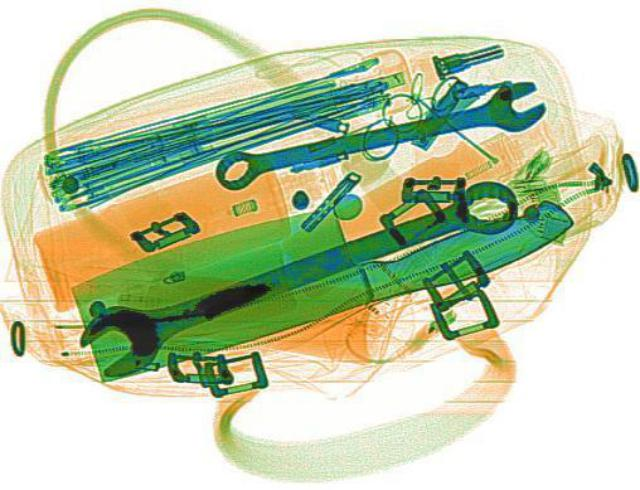Knife: (41, 145, 585, 378)
Wrench: (60, 160, 532, 379), (202, 76, 554, 193)
